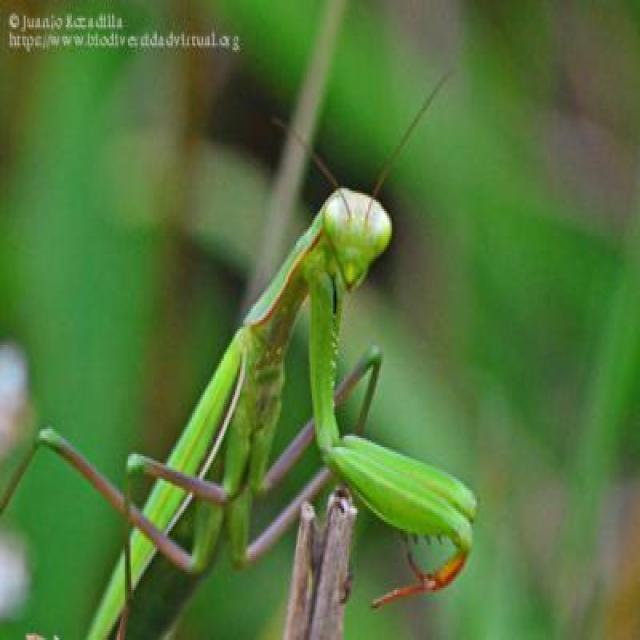antennae: (365, 70, 454, 218), (270, 119, 351, 218)
body: (81, 187, 387, 638)
insect: (0, 63, 478, 637)
legs: (309, 260, 477, 606), (0, 415, 230, 639), (116, 409, 253, 634), (228, 363, 380, 564), (231, 454, 350, 574)
mouthpart: (339, 259, 363, 294)
wings: (80, 349, 247, 640)
